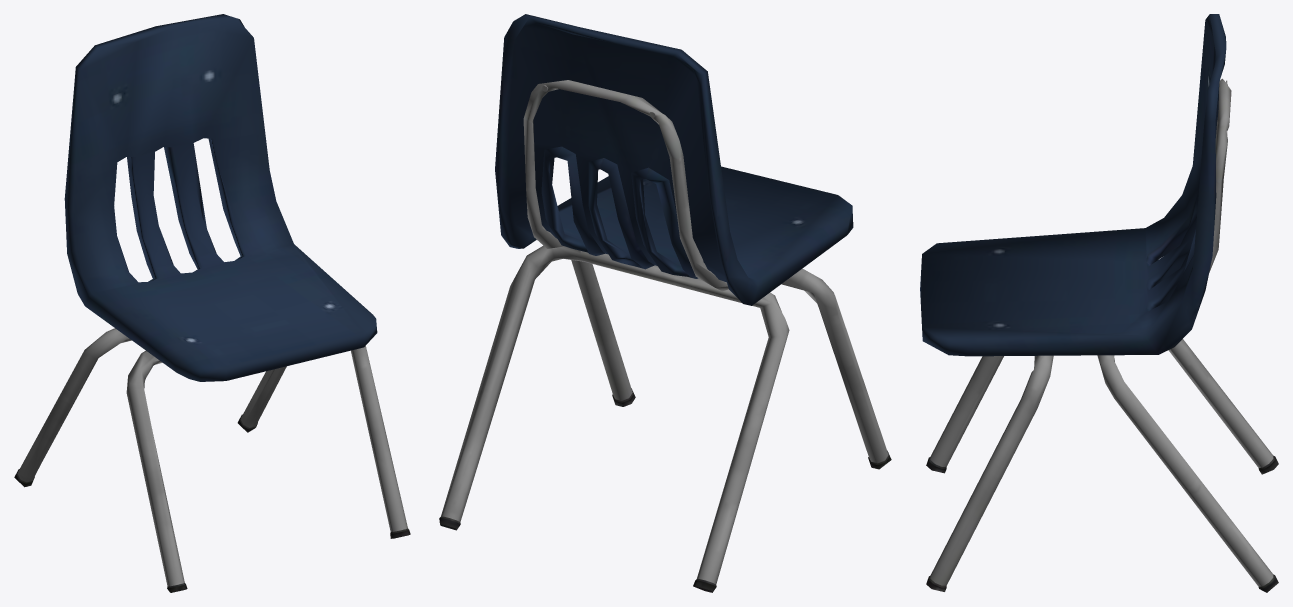
Rendered from chairSchool_lo.glb.
The picture shows the model from 3 angles, left to right: view 1: azimuth 30°, elevation 25°; view 2: azimuth 150°, elevation 25°; view 3: azimuth 270°, elevation 25°; orthographic projection. The views are drawn at different scales.
Visible parts, largest first — view 1: SchoolChair_01; view 2: SchoolChair_01; view 3: SchoolChair_01.
Part boxes in pixels (bbox=[...]): SchoolChair_01: bbox=[14, 14, 410, 592]; SchoolChair_01: bbox=[439, 14, 891, 592]; SchoolChair_01: bbox=[920, 14, 1278, 592].
Bounding box in the file's own units: 0.5658 × 1 × 0.673.
Materials: 1 (1 with a texture image).
